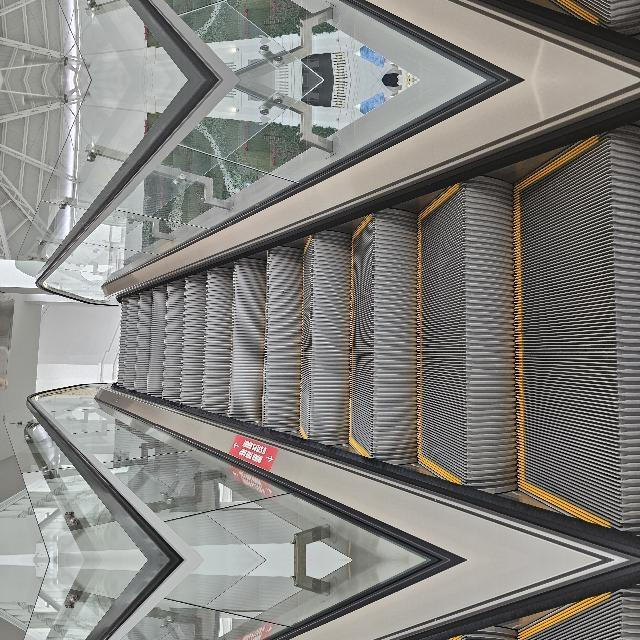stair: (36, 239, 430, 640), (36, 399, 430, 640)
